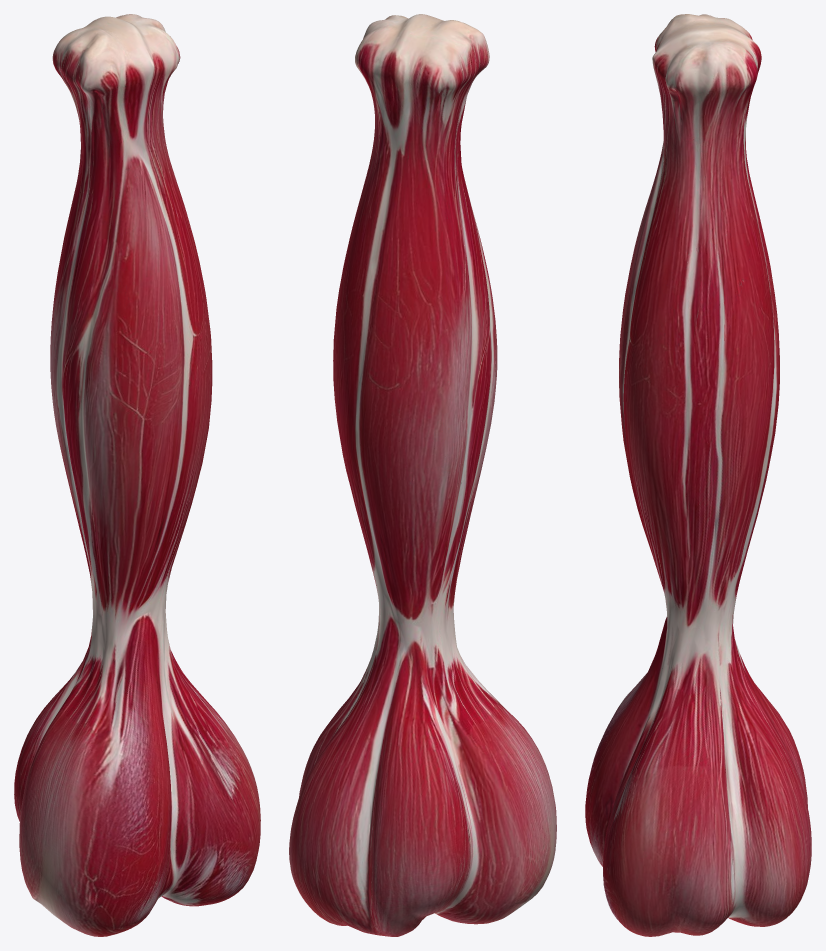
Rendered from biceps.glb.
3 renders of one model, left to right at view 1: azimuth 30°, elevation 25°; view 2: azimuth 150°, elevation 25°; view 3: azimuth 270°, elevation 25°, orthographic. The views are drawn at different scales.
Visible parts, largest first — view 1: biceps; view 2: biceps; view 3: biceps.
Boxes of the visible parts, box(x1,y1,x2,y2) form: biceps: box(14, 14, 260, 936); biceps: box(289, 14, 556, 936); biceps: box(585, 14, 811, 936).
Size of the model in its own units: 0.2662 by 1 by 0.234.
Materials: 1 (1 with a texture image).
